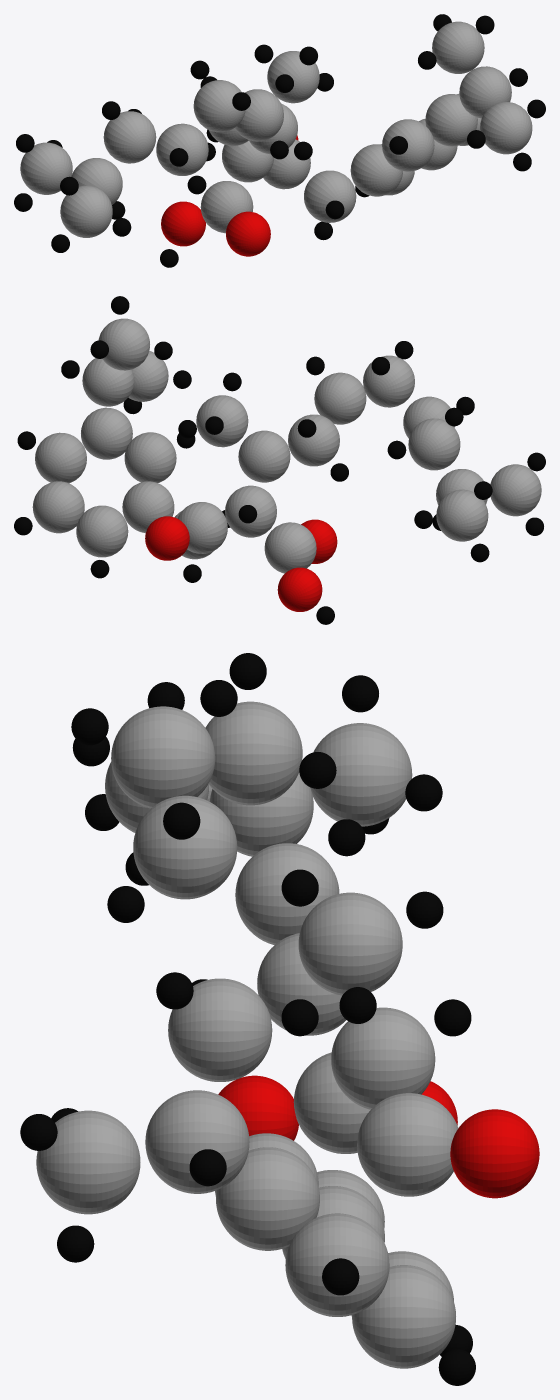
The model's file is Cholesterol.glb.
3 views of the same model, one above another, from view 1: azimuth 30°, elevation 25°; view 2: azimuth 150°, elevation 25°; view 3: azimuth 270°, elevation 25° (orthographic). The views are drawn at different scales.
Visible parts, largest first — view 1: world; view 2: world; view 3: world.
Boxes of the visible parts, left/top/right/bottom form: world: left=14, top=14, right=545, bottom=267; world: left=14, top=296, right=545, bottom=624; world: left=20, top=653, right=539, bottom=1385.
Size of the model in its own units: 15.08 by 7.06 by 6.98.
